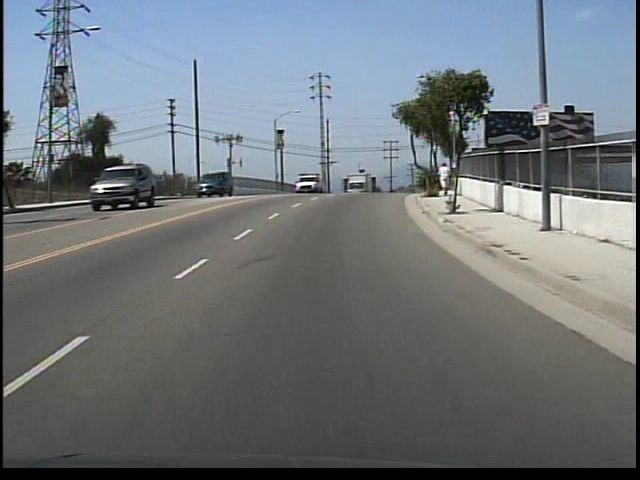person: (438, 158, 454, 196)
